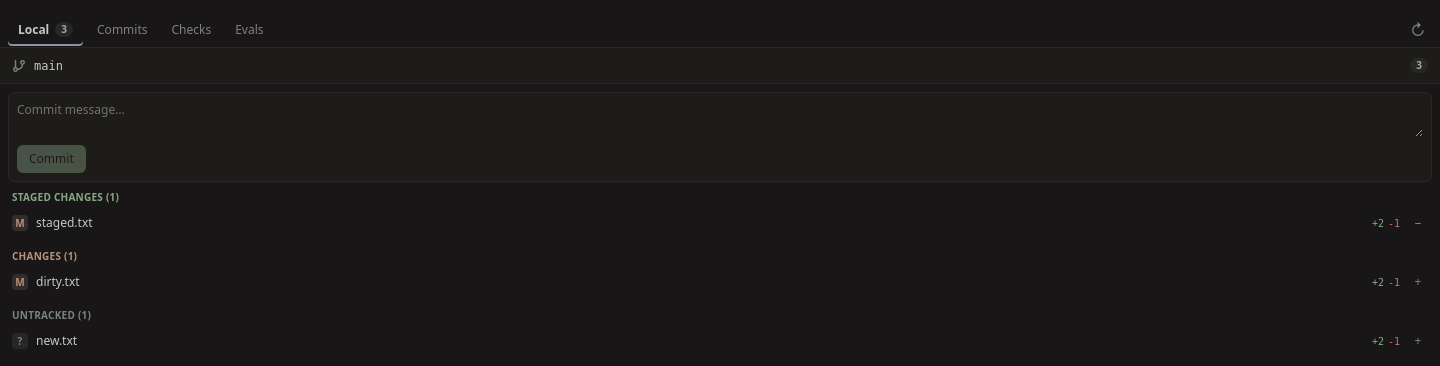
it: SidebarDiffPanel surgical stage/unstage › a duplicate delivery (POST fallback + SSE event) moves the row once
What coordinates should you click on to do the following:
click the 1st button "+"
I would click on:
 (1418, 282)
Its box is [1408,272,1428,292].
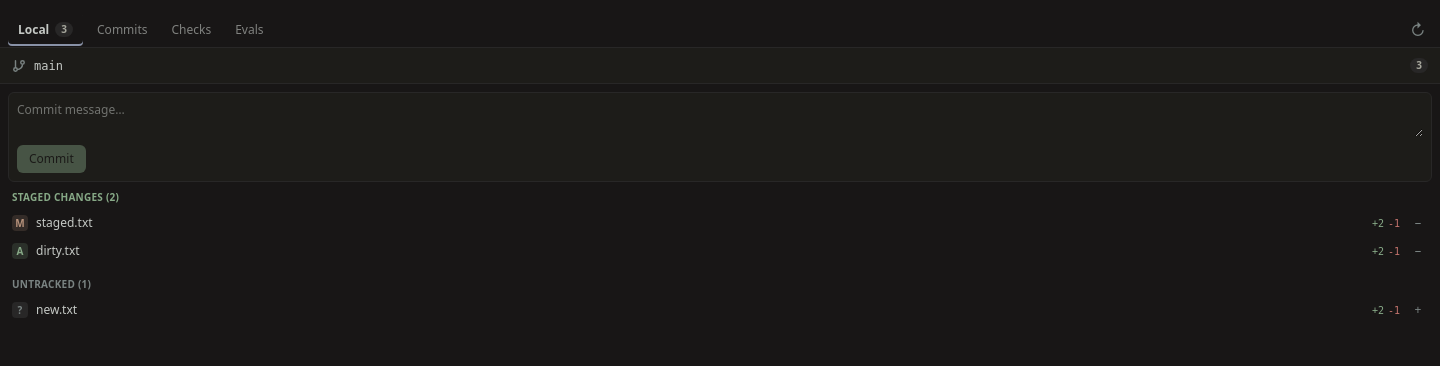
Check: the number of buttons with test id "sidebar-diff-file-staged-dirty.txt" is 1, box [0,237,1439,265]
